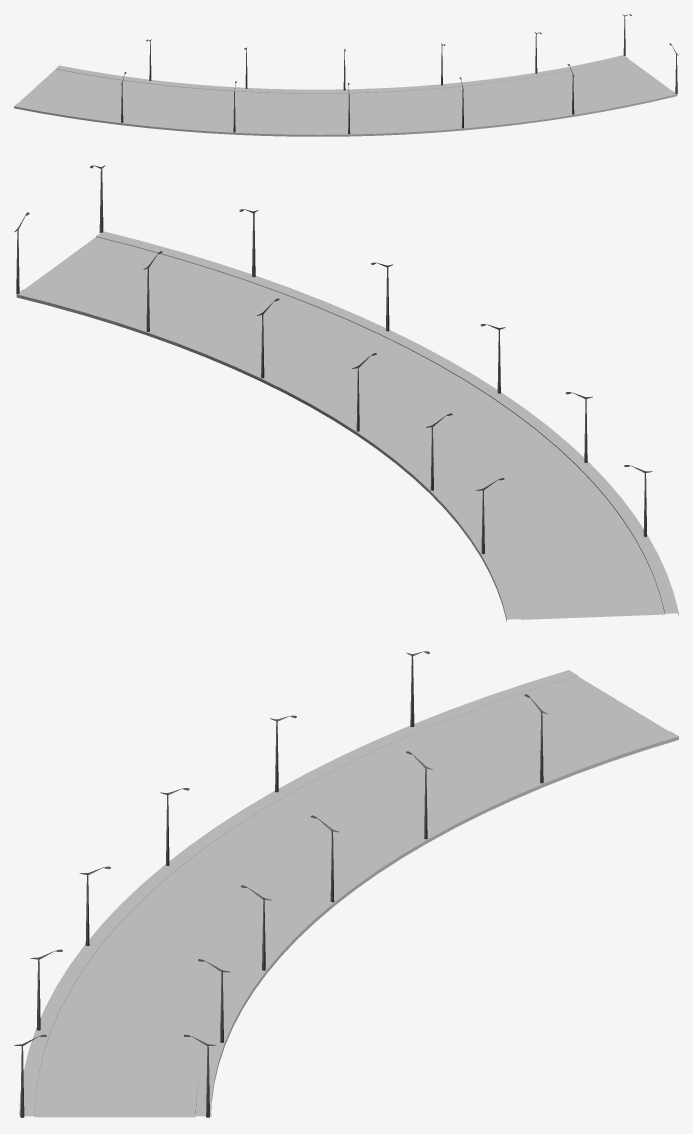
File: Big_Road_55.FBX
The picture shows the model from 3 angles, top to bottom: view 1: azimuth 30°, elevation 25°; view 2: azimuth 150°, elevation 25°; view 3: azimuth 270°, elevation 25°; orthographic projection. The views are drawn at different scales.
Visible parts, largest first — view 1: Big_Road_55, city_light010; view 2: Big_Road_55, city_light010; view 3: Big_Road_55, city_light010.
Part boxes in pixels (bbox=[...]): Big_Road_55: bbox=[14, 55, 677, 136]; city_light010: bbox=[121, 14, 678, 134]; Big_Road_55: bbox=[16, 231, 678, 621]; city_light010: bbox=[14, 165, 652, 553]; Big_Road_55: bbox=[19, 670, 678, 1117]; city_light010: bbox=[14, 651, 547, 1117].
Bounding box in the file's own units: 125 × 78.64 × 11.04.
